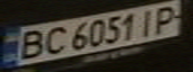0: (87, 16, 109, 47)
1: (118, 10, 142, 40)
5: (103, 12, 127, 44)
6: (66, 20, 90, 52)
B: (9, 27, 48, 61)
C: (39, 25, 69, 56)
I: (133, 6, 163, 37)
P: (148, 2, 184, 35)
